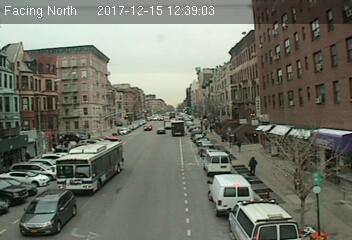bus: (54, 140, 123, 195)
car: (18, 187, 76, 235)
pedestrian: (248, 154, 258, 178)
police: (226, 197, 301, 240)
truck: (207, 173, 254, 214), (200, 149, 234, 175)
ups: (171, 121, 185, 137)
